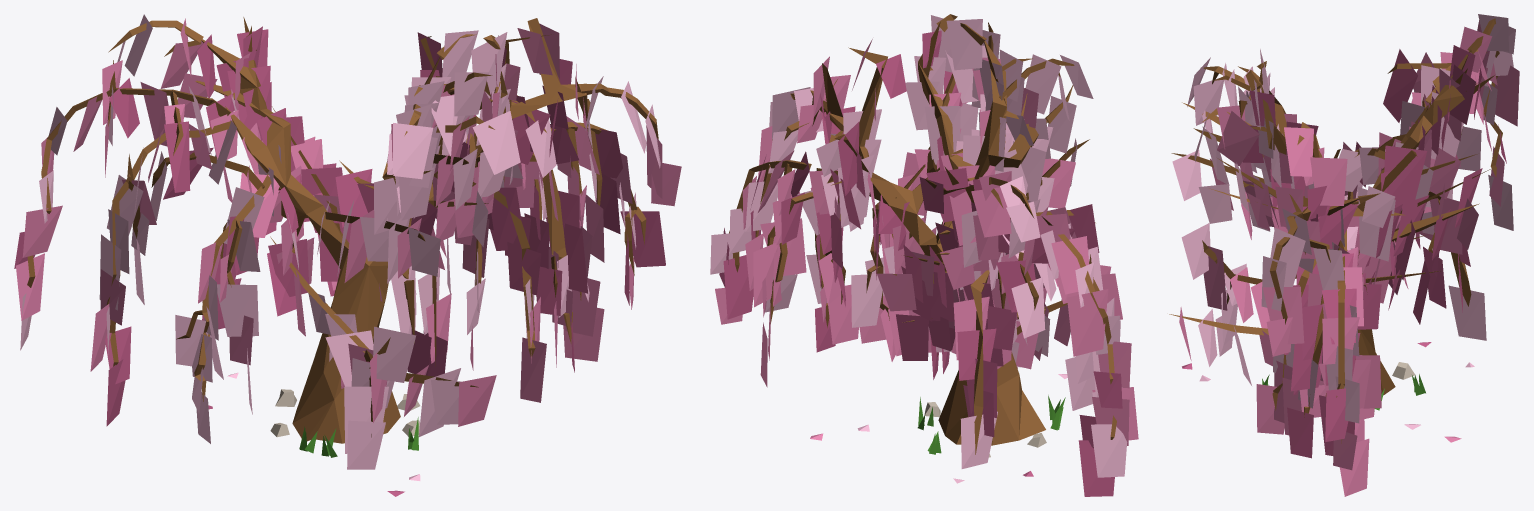
Rendered from cherry_weeping_bloom.glb.
3 views of the same model, side by side, from view 1: azimuth 30°, elevation 25°; view 2: azimuth 150°, elevation 25°; view 3: azimuth 270°, elevation 25° (orthographic). The views are drawn at different scales.
Visible parts, largest first — view 1: cherry_weeping_bloom; view 2: cherry_weeping_bloom; view 3: cherry_weeping_bloom.
Part boxes in pixels (box(x1,y1,x2,y2)): cherry_weeping_bloom: box(14, 14, 681, 496); cherry_weeping_bloom: box(710, 14, 1138, 496); cherry_weeping_bloom: box(1169, 14, 1519, 496).
Bounding box in the file's own units: 9.48 × 6.74 × 5.92.
